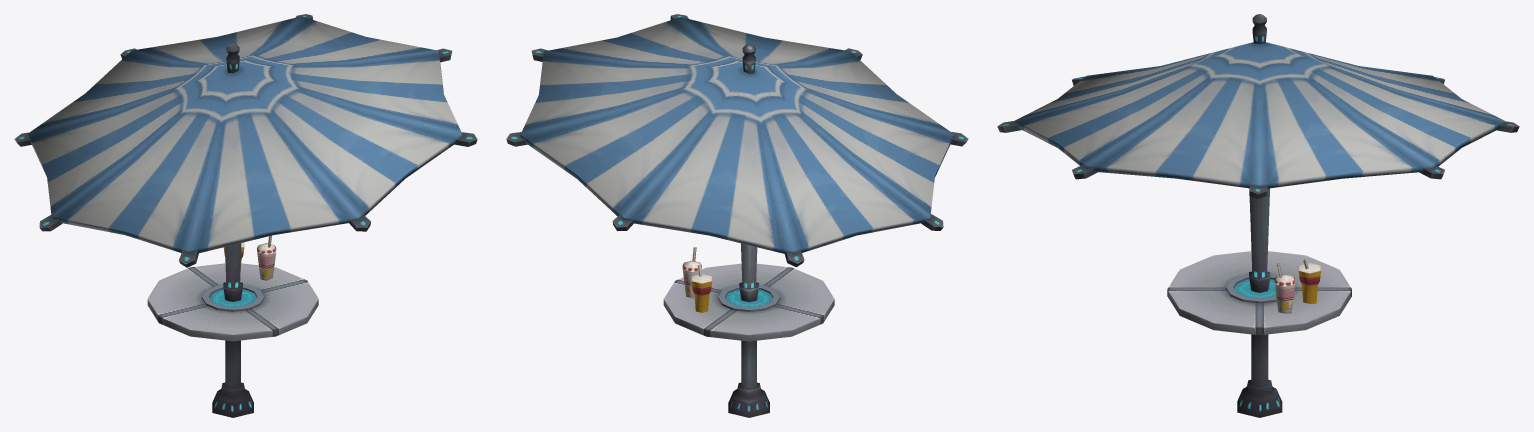
Rendered from hbxz_wj027_04.FBX.
The picture shows the model from 3 angles, left to right: view 1: azimuth 30°, elevation 25°; view 2: azimuth 150°, elevation 25°; view 3: azimuth 270°, elevation 25°; orthographic projection. The views are drawn at different scales.
Parts seen in each view (by area): view 1: hbxz_wj027_04; view 2: hbxz_wj027_04; view 3: hbxz_wj027_04.
Part boxes in pixels (left/top/right/bottom): hbxz_wj027_04: left=14, top=14, right=477, bottom=417; hbxz_wj027_04: left=506, top=14, right=968, bottom=417; hbxz_wj027_04: left=997, top=14, right=1519, bottom=417.
Size of the model in its own units: 326 by 274 by 331.
1 material, 1 textured.
